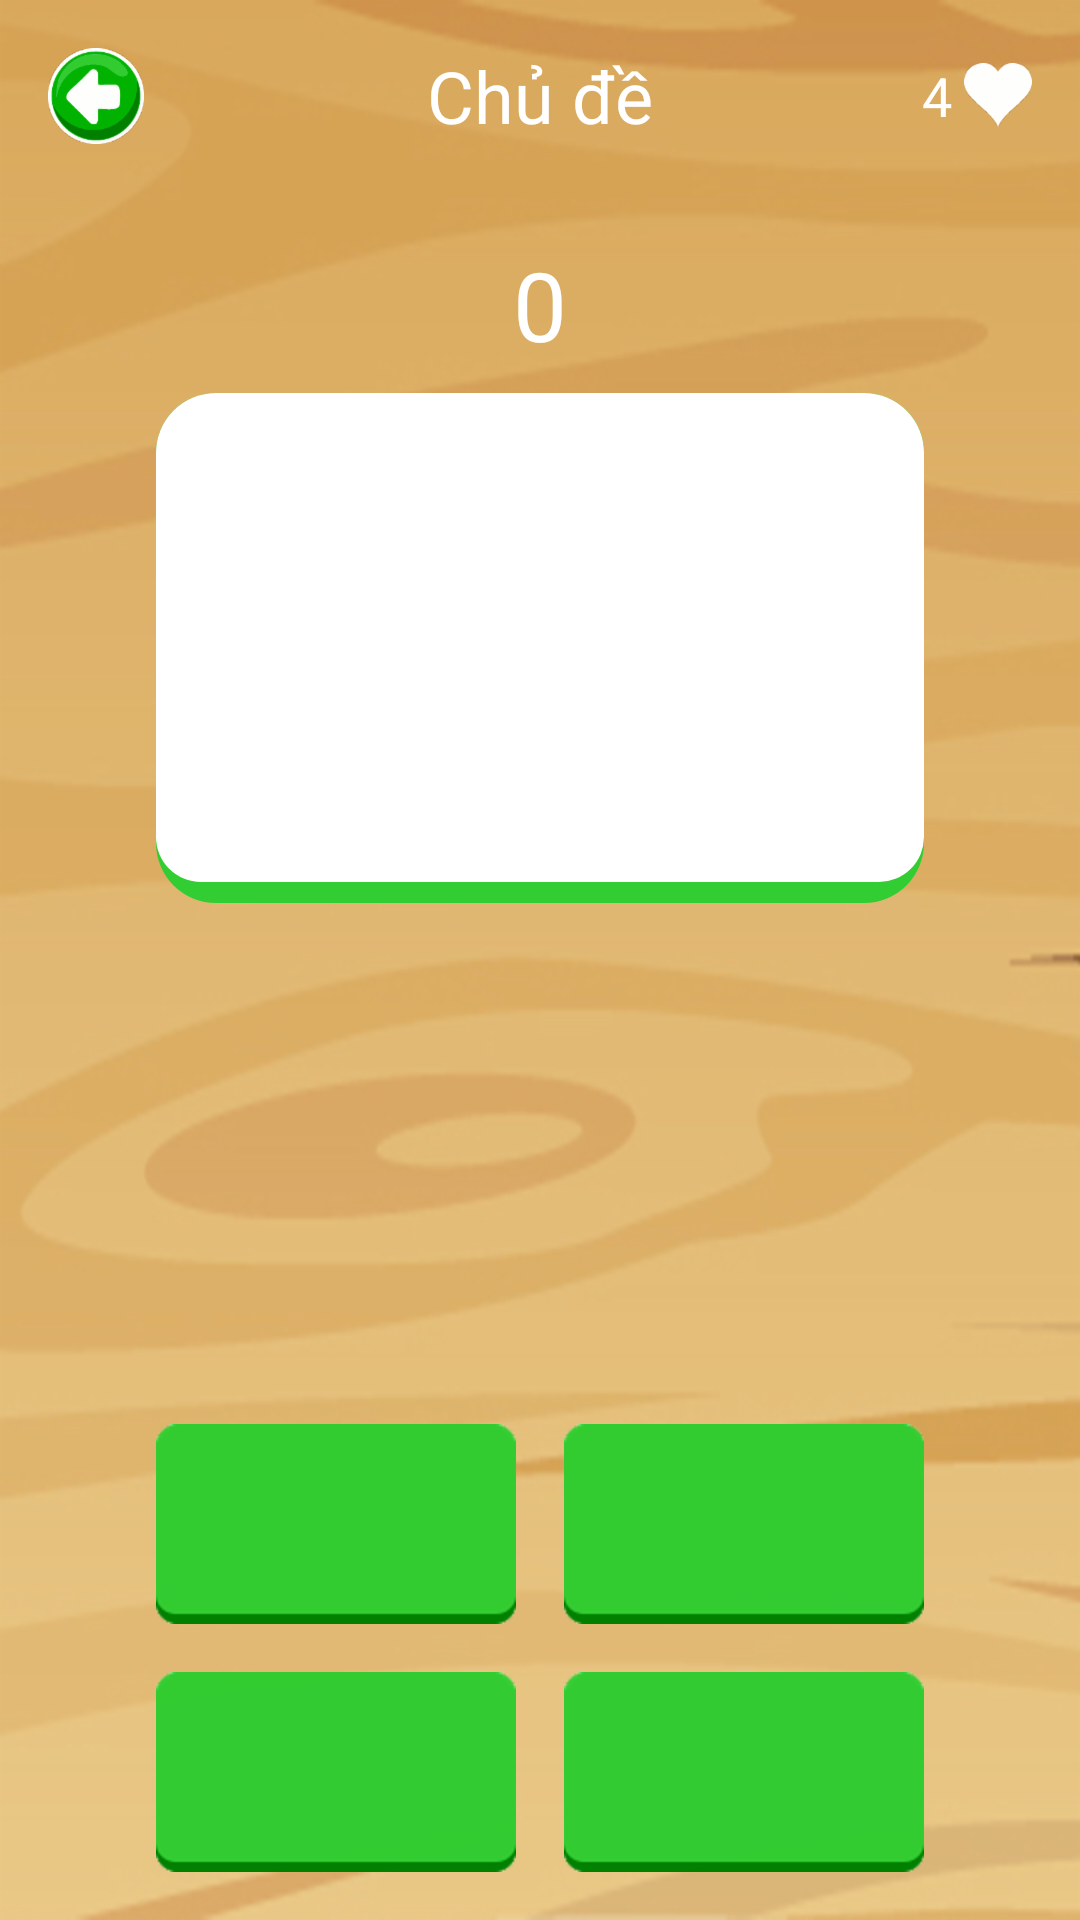

Point at icon controls on the screen. Image size 1080×1920, points as (x,y).
Image Back: (96,96)
